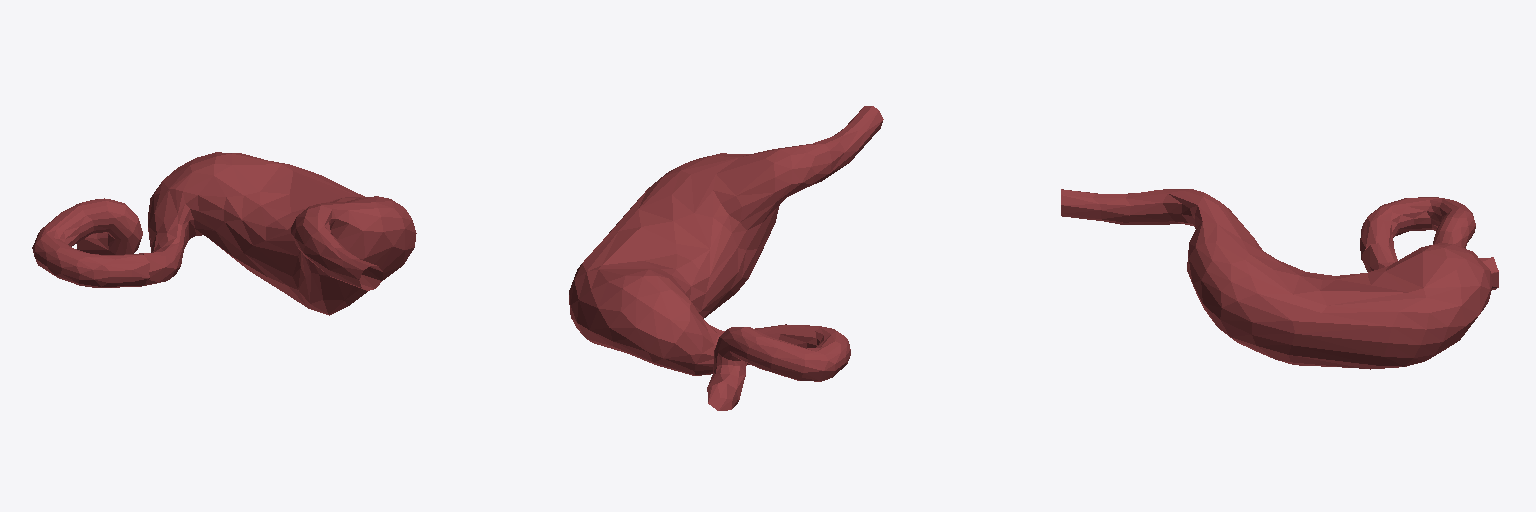
The model's file is duodenalOBJ.obj.
The picture shows the model from 3 angles: view 1: azimuth 30°, elevation 25°; view 2: azimuth 150°, elevation 25°; view 3: azimuth 270°, elevation 25°; orthographic projection.
Bounding box in the file's own units: 14.17 × 6.77 × 18.63.